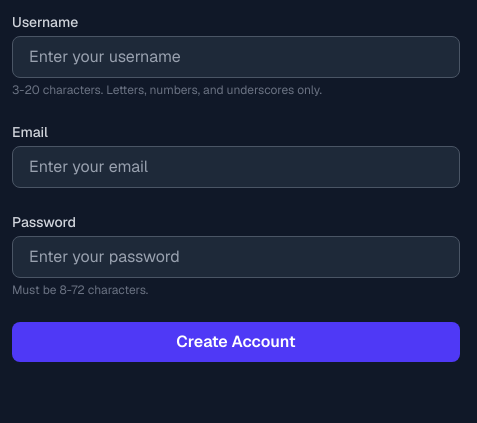
Test case: RegisterForm › displays generic message on network error
Type "testuser" into the field labelled "Username" at (236, 57), box [12, 36, 460, 78]
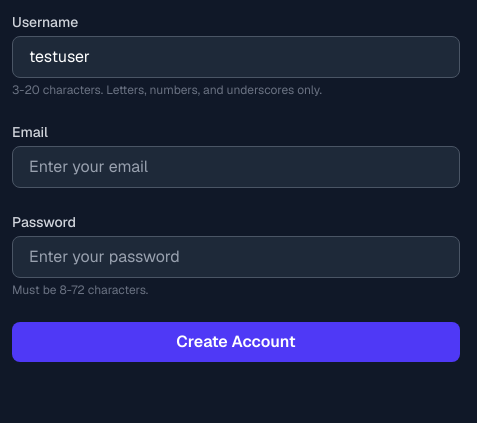
Type "test@example.com" into the field labelled "Email" at (236, 167), box [12, 146, 460, 188]
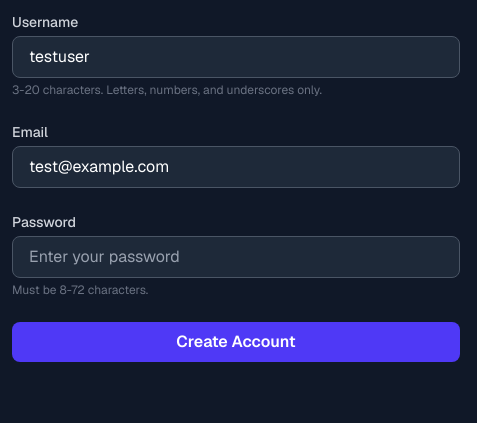
Type "password123" into the password field labelled "Password" at (236, 257), box [12, 236, 460, 278]
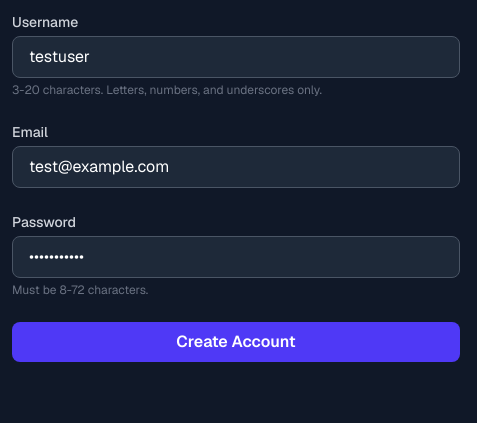
Click the button "Create Account" at (236, 342), box [12, 322, 460, 362]
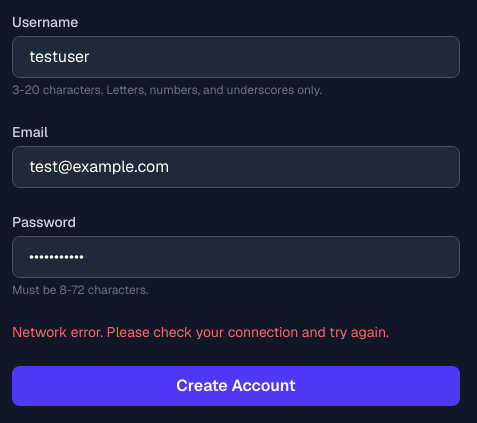
Check: the text "Network error. Please check your connection and try again." is shown, box [12, 323, 389, 341]
